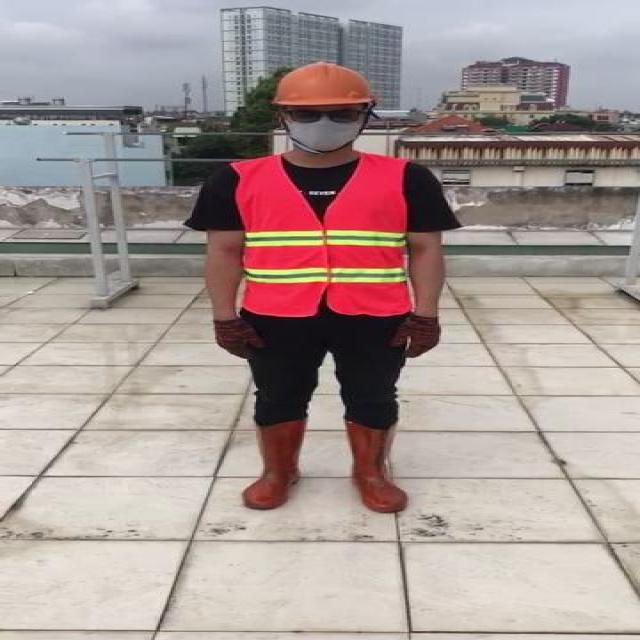boots: (238, 415, 308, 511), (348, 423, 411, 513)
face_mask: (278, 100, 367, 151)
glasses: (282, 102, 365, 126)
hand_glove: (210, 319, 265, 360), (386, 317, 441, 357)
head_helmet: (266, 59, 383, 110)
person: (195, 58, 457, 532)
vest: (235, 155, 412, 315)
